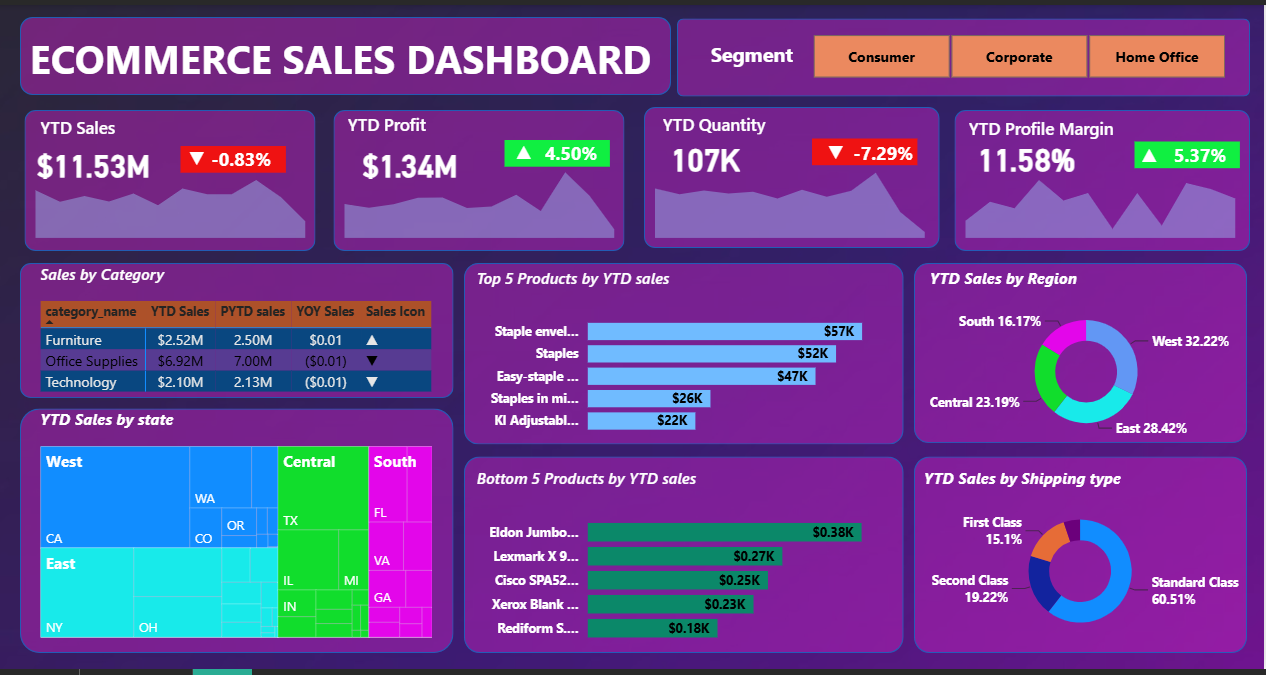

The page's visual inventory and layout, read from the dashboard file:
{"tool":"powerbi","page":{"name":"Page 1","canvas":[1200,630],"ordinal":0},"visuals":[{"type":"shape","box":[19.9,11.4,617.7,74],"z":0},{"type":"textbox","box":[24.2,25.6,626.2,84],"z":1000},{"type":"shape","box":[24.2,99.6,276.1,133.8],"z":2000},{"type":"cardVisual","fields":{"Data":["ecommerce_data.YTD Sales"]},"box":[0,121,179.3,62.6],"z":3000},{"type":"areaChart","fields":{"Category":["Calendar.month"],"Y":["Sum(ecommerce_data.sales_per_order)"]},"box":[19.9,142.3,284.6,84],"z":4000},{"type":"shape","box":[172.2,133.8,100,25],"z":5000},{"type":"textbox","box":[34.2,99.6,89.7,31.3],"z":8000},{"type":"shape","box":[317.4,99.6,276.1,133.8],"z":9000},{"type":"shape","box":[479.6,128.1,100,25],"z":10000},{"type":"cardVisual","fields":{"Data":["ecommerce_data.YOY Profit"]},"box":[455.4,103.9,175.1,71.2],"z":11000},{"type":"cardVisual","fields":{"Data":["ecommerce_data.Profit Icon"]},"box":[455.4,111,85.4,55.5],"z":12000},{"type":"textbox","box":[325.9,96.8,89.7,31.3],"z":13000},{"type":"areaChart","fields":{"Category":["Calendar.month"],"Y":["Sum(ecommerce_data.profit_per_order)"]},"box":[313.1,142.3,284.6,84],"z":14000},{"type":"cardVisual","fields":{"Data":["ecommerce_data.YTD Profit"]},"box":[300.3,121,179.3,62.6],"z":15000},{"type":"shape","box":[612,96.8,280.4,133.8],"z":16000},{"type":"areaChart","fields":{"Category":["Calendar.month"],"Y":["Sum(ecommerce_data.order_quantity)"]},"box":[607.7,142.3,284.6,84],"z":17000},{"type":"shape","box":[771.4,126.7,100,25],"z":18000},{"type":"cardVisual","fields":{"Data":["ecommerce_data.Quantity Icon"]},"box":[751.5,111,85.4,55.5],"z":19000},{"type":"textbox","box":[624.8,96.8,125.2,31.3],"z":20000},{"type":"shape","box":[906.6,99.6,280.4,133.8],"z":21000},{"type":"areaChart","fields":{"Category":["Calendar.month"],"Y":["ecommerce_data.Profit margin"]},"box":[902.3,142.3,284.6,84],"z":22000},{"type":"shape","box":[1077.4,129.5,100,25],"z":23000},{"type":"cardVisual","fields":{"Data":["ecommerce_data.Profit margin Icon"]},"box":[1048.9,113.9,85.4,55.5],"z":24000},{"type":"textbox","box":[915.1,101,176.5,38.4],"z":25000},{"type":"cardVisual","fields":{"Data":["ecommerce_data.YTD Profit margin"]},"box":[885.2,115.3,179.3,62.6],"z":26000},{"type":"cardVisual","fields":{"Data":["ecommerce_data.YTD Quantity"]},"box":[580.7,115.3,179.3,62.6],"z":27000},{"type":"cardVisual","fields":{"Data":["ecommerce_data.YOY quantity"]},"box":[751.5,103.9,175.1,71.2],"z":28000},{"type":"cardVisual","fields":{"Data":["ecommerce_data.YOY Profit margin"]},"box":[1080.2,109.6,119.6,62.6],"z":29000},{"type":"shape","box":[19.9,244.8,411.3,128.1],"z":30000},{"type":"shape","box":[441.2,244.8,417,172.2],"z":31000},{"type":"pivotTable","title":"Sales by Category","fields":{"Rows":["ecommerce_data.category_name"],"Values":["ecommerce_data.YTD Sales","ecommerce_data.PYTD sales","ecommerce_data.YOY Sales","ecommerce_data.Sales Icon"]},"box":[34.2,244.8,424.1,145.2],"z":32000},{"type":"shape","box":[643.3,12.8,543.7,74],"z":33000},{"type":"shape","box":[19.9,382.8,411.3,232],"z":34000},{"type":"shape","box":[441.2,428.4,417,186.4],"z":35000},{"type":"barChart","title":"Top 5 Products by YTD sales","fields":{"Category":["ecommerce_data.product_name"],"Y":["ecommerce_data.YTD Sales"]},"box":[448.3,249.1,388.5,167.9],"z":36000},{"type":"barChart","title":"Bottom 5 Products by YTD sales","fields":{"Category":["ecommerce_data.product_name"],"Y":["ecommerce_data.YTD Sales"]},"box":[448.3,438.4,388.5,176.5],"z":37000},{"type":"shape","box":[868.2,244.8,316,170.8],"z":38000},{"type":"donutChart","title":"YTD Sales by Region","fields":{"Category":["ecommerce_data.customer_region"],"Y":["ecommerce_data.YTD Sales"]},"box":[878.1,249.1,306,166.5],"z":39000},{"type":"shape","box":[868.2,428.4,316,186.4],"z":40000},{"type":"donutChart","title":"YTD Sales by Shipping type","fields":{"Category":["ecommerce_data.shipping_type"],"Y":["ecommerce_data.YTD Sales"]},"box":[872.4,438.4,306,166.5],"z":41000},{"type":"slicer","fields":{"Values":["ecommerce_data.customer_segment"]},"box":[747.2,21.3,439.8,54.1],"z":42000},{"type":"cardVisual","fields":{"Data":["ecommerce_data.YOY Sales"]},"box":[142.3,109.6,175.1,71.2],"z":42001},{"type":"cardVisual","fields":{"Data":["ecommerce_data.Sales Icon"]},"box":[145.2,116.7,85.4,55.5],"z":42002},{"type":"textbox","box":[670.3,28.5,99.6,39.9],"z":42003},{"type":"treemap","title":"YTD Sales by state","fields":{"Details":["us_state_long_lat_codes.state"],"Group":["ecommerce_data.customer_region"],"Values":["ecommerce_data.YTD Sales"]},"box":[34.2,382.8,381.4,222],"z":42004}]}

Visuals, with their boxes in screenshot pixels (x1, y1, x2, y2), scaled from the page's 1200x630 canvas onto the 1266x675 screenshot:
shape: rect(21, 12, 673, 92)
textbox: rect(26, 27, 686, 117)
shape: rect(26, 107, 317, 250)
cardVisual - ecommerce_data.YTD Sales: rect(0, 130, 189, 197)
areaChart - Calendar.month x Sum(ecommerce_data.sales_per_order): rect(21, 152, 321, 242)
shape: rect(182, 143, 287, 170)
textbox: rect(36, 107, 131, 140)
shape: rect(335, 107, 626, 250)
shape: rect(506, 137, 611, 164)
cardVisual - ecommerce_data.YOY Profit: rect(480, 111, 665, 188)
cardVisual - ecommerce_data.Profit Icon: rect(480, 119, 571, 178)
textbox: rect(344, 104, 438, 137)
areaChart - Calendar.month x Sum(ecommerce_data.profit_per_order): rect(330, 152, 631, 242)
cardVisual - ecommerce_data.YTD Profit: rect(317, 130, 506, 197)
shape: rect(646, 104, 941, 247)
areaChart - Calendar.month x Sum(ecommerce_data.order_quantity): rect(641, 152, 941, 242)
shape: rect(814, 136, 919, 163)
cardVisual - ecommerce_data.Quantity Icon: rect(793, 119, 883, 178)
textbox: rect(659, 104, 791, 137)
shape: rect(956, 107, 1252, 250)
areaChart - Calendar.month x ecommerce_data.Profit margin: rect(952, 152, 1252, 242)
shape: rect(1137, 139, 1242, 166)
cardVisual - ecommerce_data.Profit margin Icon: rect(1107, 122, 1197, 182)
textbox: rect(965, 108, 1152, 149)
cardVisual - ecommerce_data.YTD Profit margin: rect(934, 124, 1123, 191)
cardVisual - ecommerce_data.YTD Quantity: rect(613, 124, 802, 191)
cardVisual - ecommerce_data.YOY quantity: rect(793, 111, 978, 188)
cardVisual - ecommerce_data.YOY Profit margin: rect(1140, 117, 1265, 184)
shape: rect(21, 262, 455, 400)
shape: rect(465, 262, 905, 447)
"Sales by Category" pivotTable: rect(36, 262, 484, 418)
shape: rect(679, 14, 1252, 93)
shape: rect(21, 410, 455, 659)
shape: rect(465, 459, 905, 659)
"Top 5 Products by YTD sales" barChart: rect(473, 267, 883, 447)
"Bottom 5 Products by YTD sales" barChart: rect(473, 470, 883, 659)
shape: rect(916, 262, 1249, 445)
"YTD Sales by Region" donutChart: rect(926, 267, 1249, 445)
shape: rect(916, 459, 1249, 659)
"YTD Sales by Shipping type" donutChart: rect(920, 470, 1243, 648)
slicer - ecommerce_data.customer_segment: rect(788, 23, 1252, 81)
cardVisual - ecommerce_data.YOY Sales: rect(150, 117, 335, 194)
cardVisual - ecommerce_data.Sales Icon: rect(153, 125, 243, 184)
textbox: rect(707, 31, 812, 73)
"YTD Sales by state" treemap: rect(36, 410, 438, 648)
